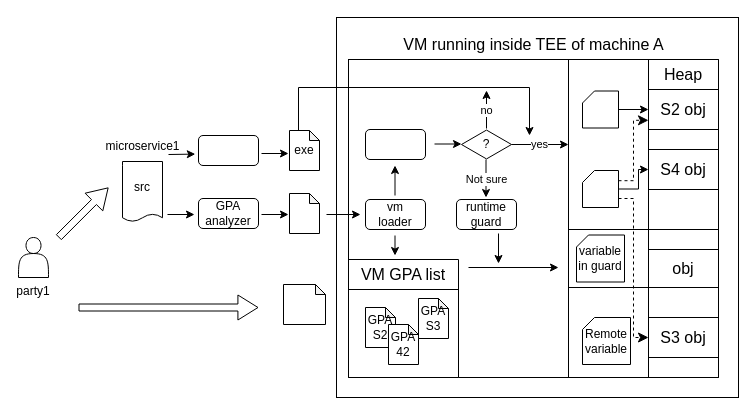
Some shapes in this 756 by 415 pixel diagram are drawn without their labels. Here are the shapes that lost their labels. From the top down, the box of each, then its label:
(582, 90, 618, 128): S2 code
(198, 134, 258, 166): rust compiler
(364, 128, 426, 160): GPA checker
(582, 170, 618, 208): S4 code
(288, 192, 320, 234): GPA
(282, 284, 326, 324): access list
